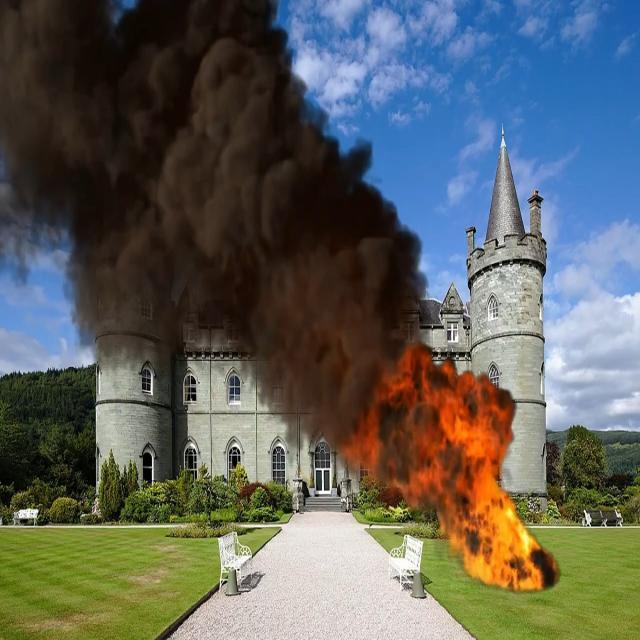Fire: (467, 482, 558, 591)
Smoke: (7, 4, 406, 429)
